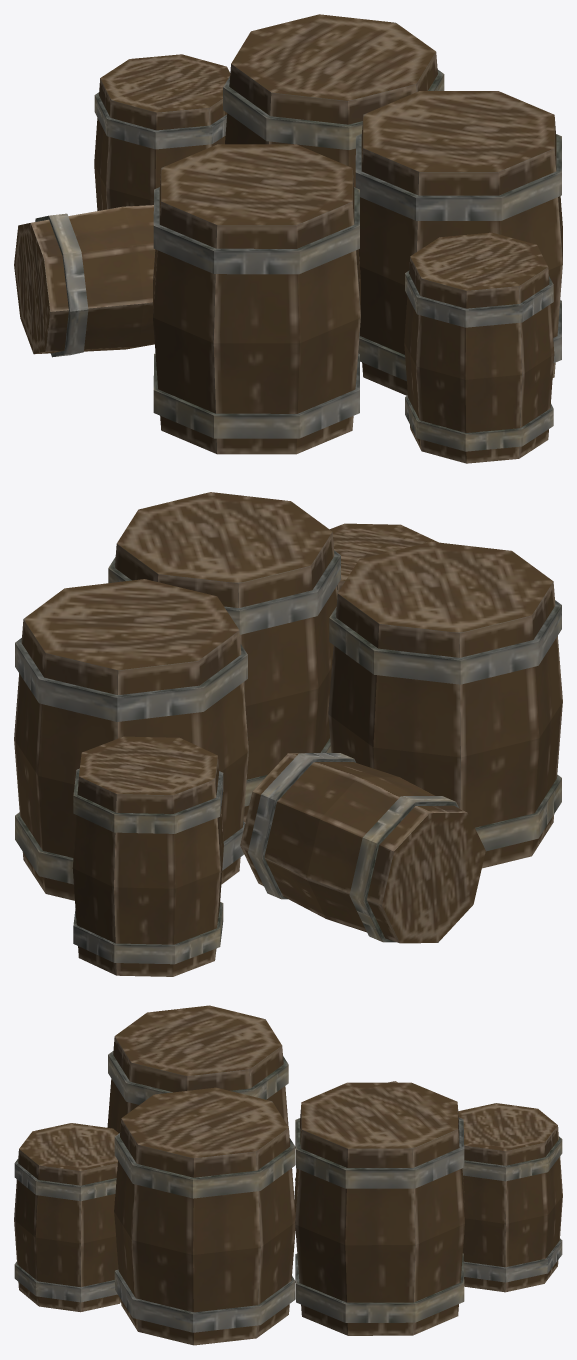
Rendered from barrels_002.obj.
3 views of the same model, one above another, from view 1: azimuth 30°, elevation 25°; view 2: azimuth 150°, elevation 25°; view 3: azimuth 270°, elevation 25° (orthographic). The views are drawn at different scales.
Parts seen in each view (by area): view 1: barrels_002; view 2: barrels_002; view 3: barrels_002.
Part boxes in pixels (x1=…): barrels_002: x1=14, y1=14, x2=562, y2=463; barrels_002: x1=14, y1=492, x2=562, y2=976; barrels_002: x1=14, y1=1005, x2=562, y2=1345.
Bounding box in the file's own units: 3.88 × 2.03 × 5.32.
